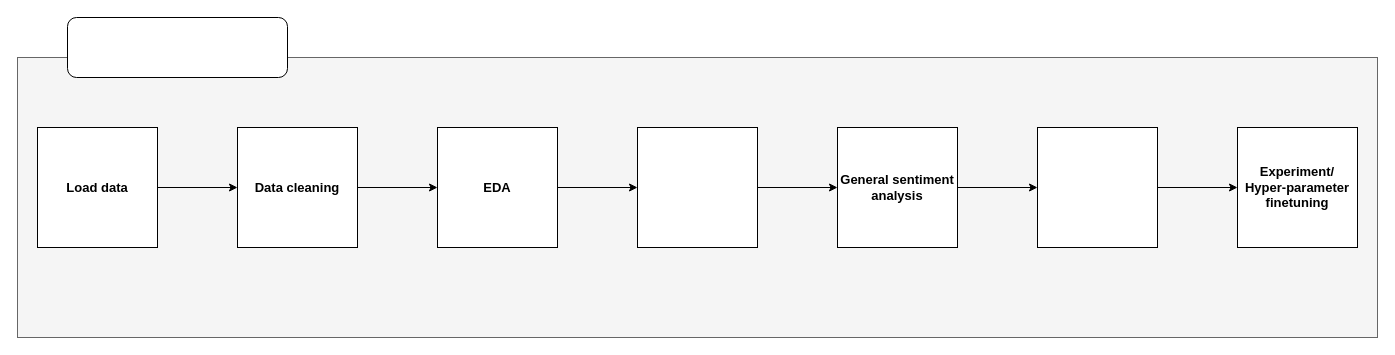
Image size: 1395x355. Some labels were removed from this diagram. Here are the shapes that lost their labels. From the top down, the box of each, then its label:
(66, 16, 288, 78): Workflow - Customer review analysis
(636, 126, 758, 248): Pre-processing
(1036, 126, 1158, 248): Topic modelling
